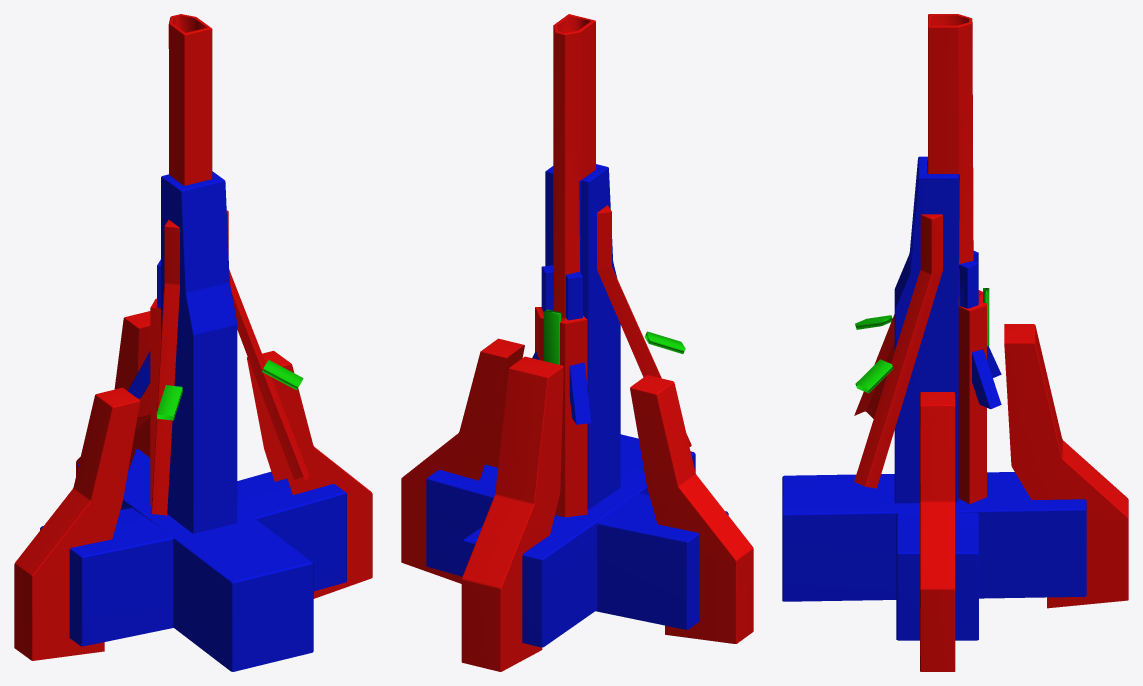
Rendered from Canon_Mortar_A.fbx.
3 renders of one model, left to right at view 1: azimuth 30°, elevation 25°; view 2: azimuth 150°, elevation 25°; view 3: azimuth 270°, elevation 25°, orthographic. The views are drawn at different scales.
Visible parts, largest first — view 1: Mortar; view 2: Mortar; view 3: Mortar.
Part boxes in pixels (x1,y1,x2,y2): Mortar: (14,14,372,671); Mortar: (401,14,753,671); Mortar: (782,14,1128,671).
Bounding box in the file's own units: 390 × 648 × 352.
